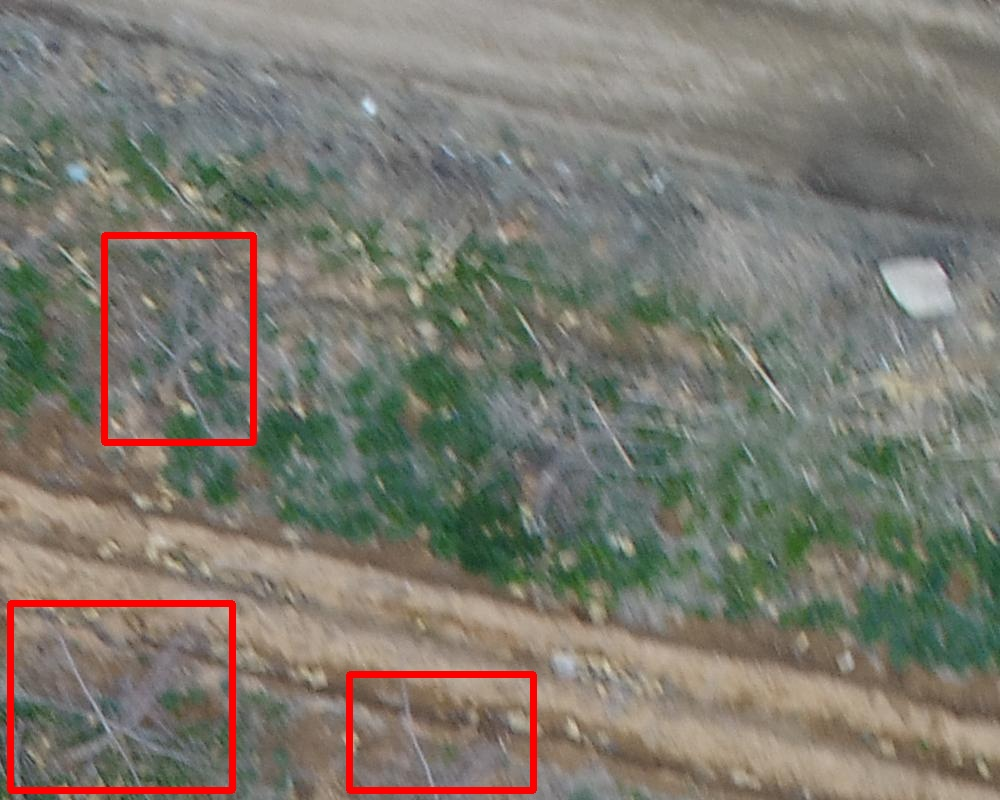apple: (10, 603, 232, 790), (104, 235, 253, 442), (349, 674, 533, 790)
